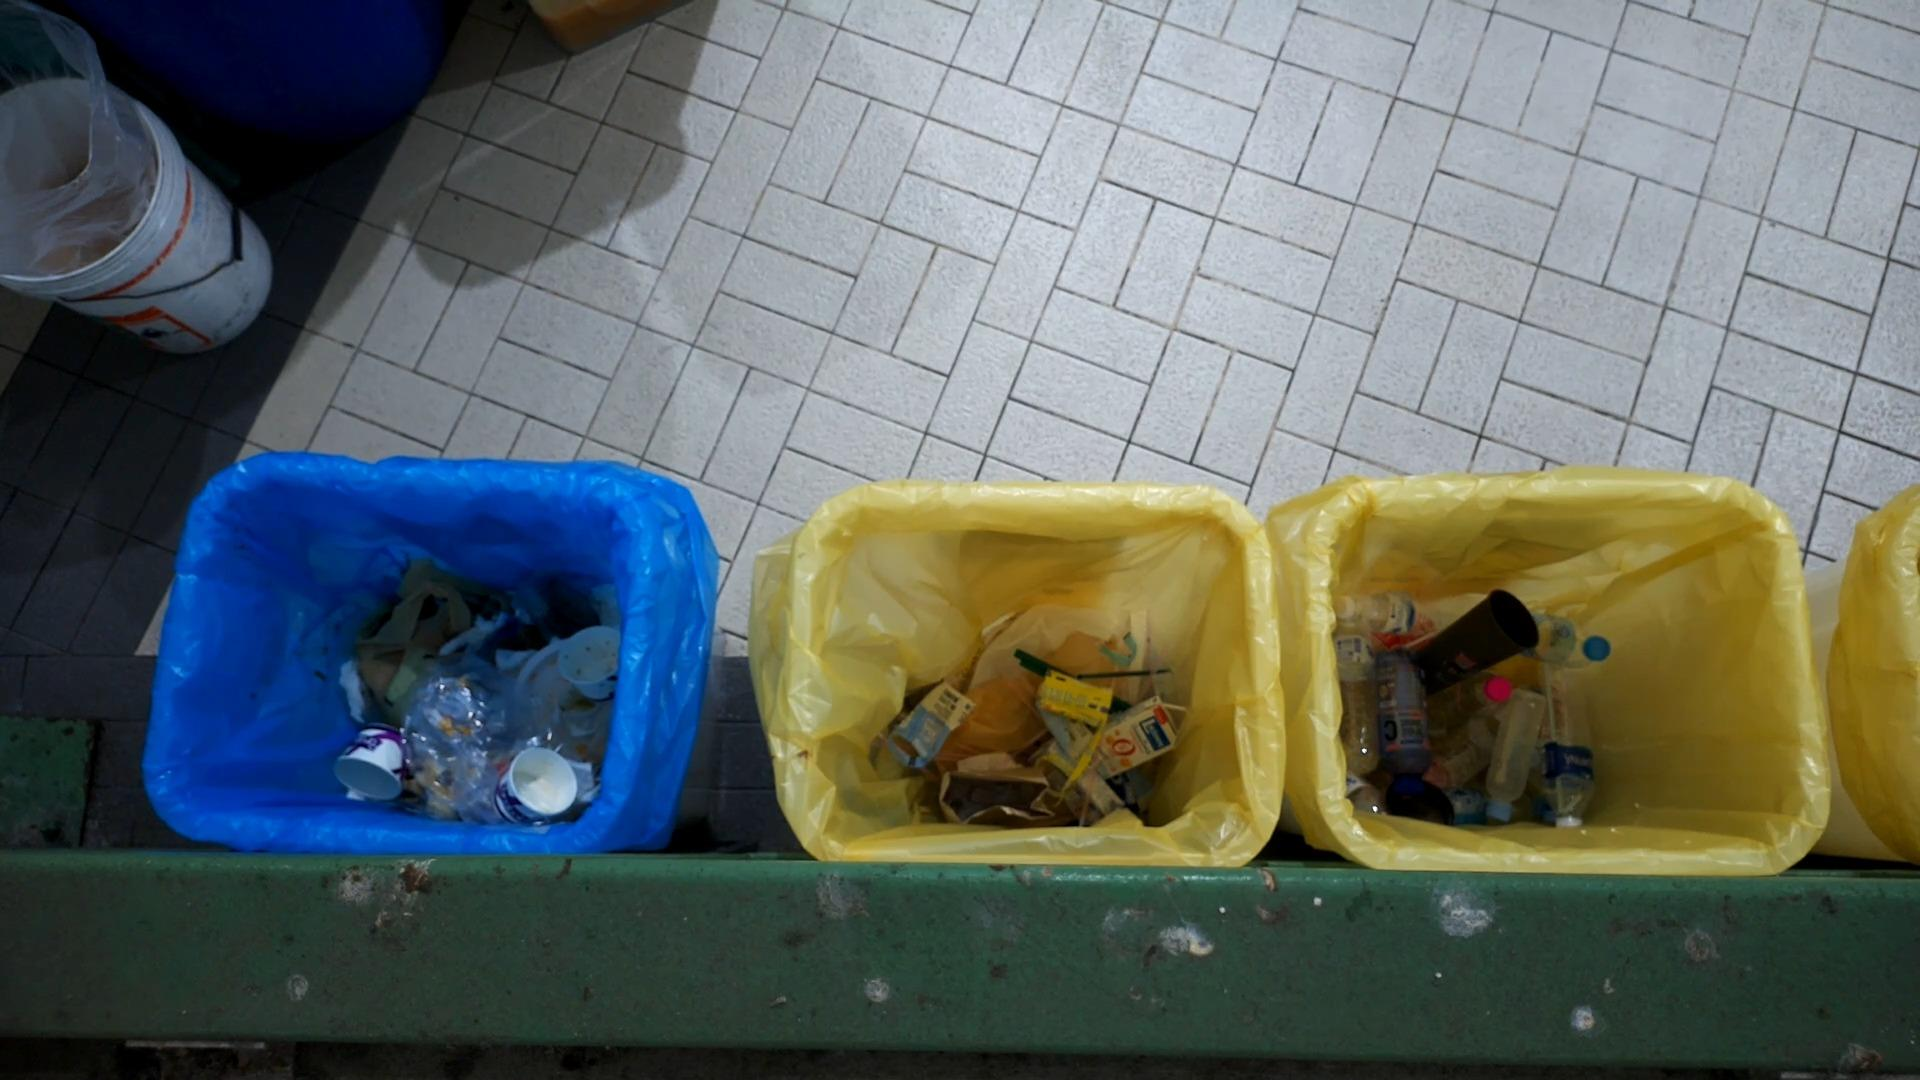dirty food container: (513, 626, 630, 771)
filled plastic bag: (343, 554, 516, 708)
food container: (481, 738, 582, 831), (327, 719, 417, 803), (554, 617, 626, 709)
milk carton: (1069, 683, 1179, 782), (1027, 735, 1130, 827), (881, 676, 973, 774)
paper bag: (931, 761, 1058, 831)
plastic bag: (381, 653, 529, 829), (963, 596, 1154, 695)
plastic bottle: (1531, 647, 1600, 832), (1332, 611, 1387, 785), (1371, 647, 1435, 796), (1482, 684, 1545, 825), (1333, 582, 1464, 644), (1520, 607, 1615, 671)
plastic cup: (1416, 584, 1545, 703), (1375, 775, 1460, 829)
straw: (1539, 655, 1598, 819), (1005, 646, 1137, 713), (1055, 655, 1183, 687), (1076, 741, 1102, 829), (1155, 700, 1187, 713)
tissue paper: (334, 651, 373, 721), (559, 758, 605, 815), (952, 748, 1025, 774)
